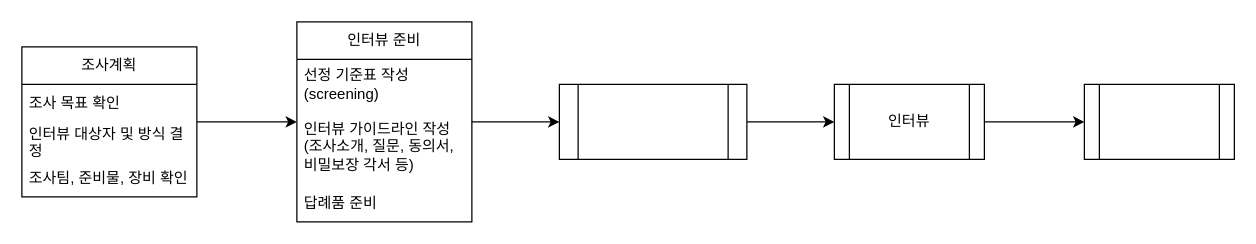
Image size: 1256x244. Some labels were removed from this diagram. Here are the shapes that lost their labels. From the top down, the centre of each, then its label:
At pixel 652 121: "파일럿 테스트 및 수정".
At pixel 1158 121: "정리 및 해석".
